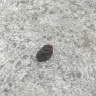Dog: (37, 45, 53, 62)
